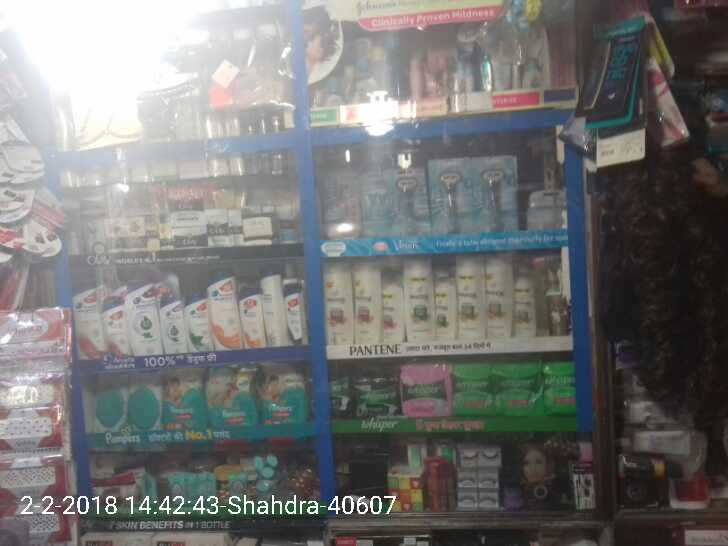venus: (430, 157, 474, 238), (474, 157, 520, 229), (388, 169, 430, 238), (324, 171, 361, 237), (361, 169, 388, 237), (523, 190, 566, 229)
